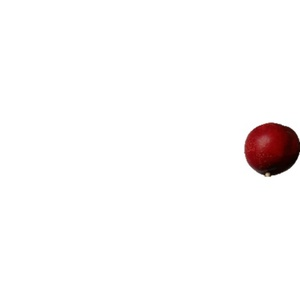nectarina: (245, 123, 300, 178)
